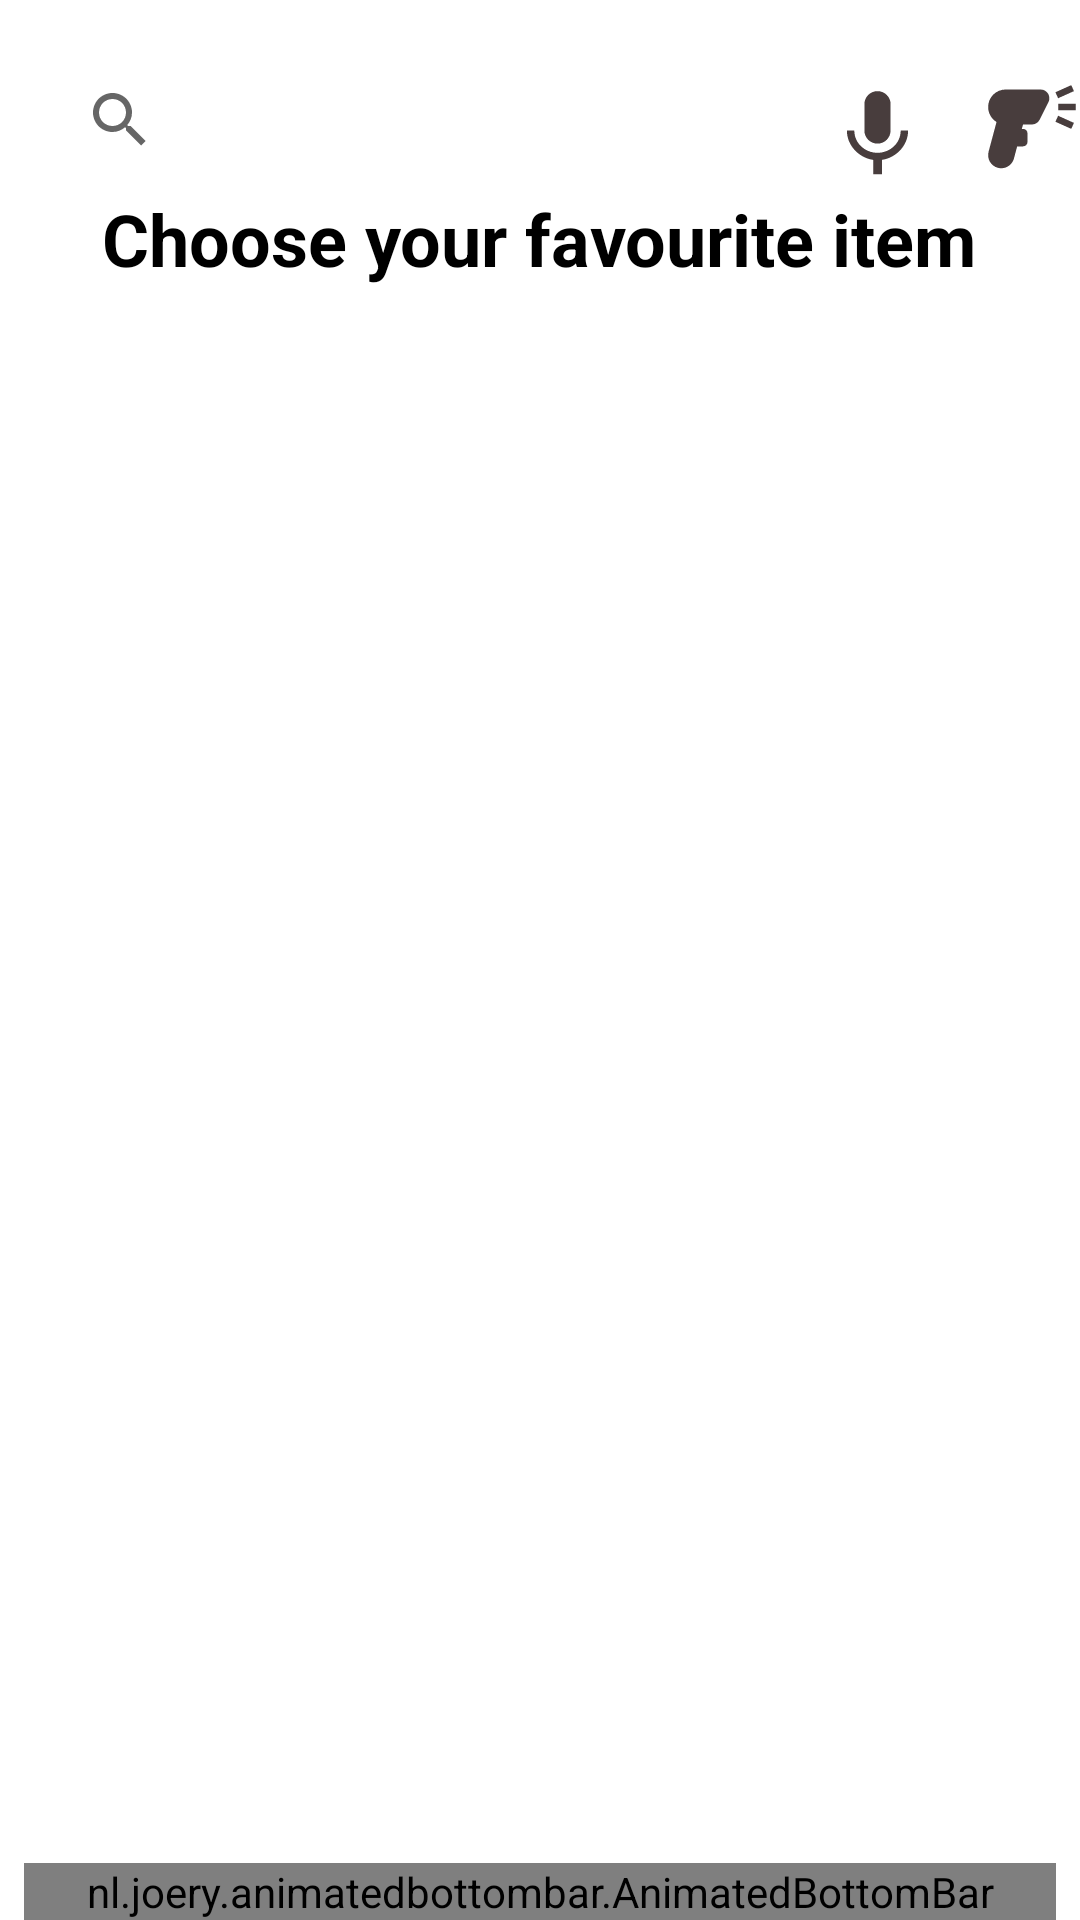

Icons on this 1080x1920 Android screen, each with its box as (x1, y1, x2, y2):
barcode reader: (988, 85, 1076, 169)
keyboard voice: (847, 91, 908, 175)
